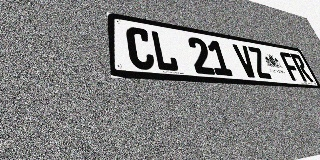1: (205, 39, 233, 76)
2: (187, 36, 215, 75)
C: (125, 26, 156, 70)
F: (279, 51, 303, 81)
L: (150, 30, 180, 72)
R: (289, 53, 314, 82)
V: (232, 44, 259, 78)
Z: (247, 46, 273, 79)
